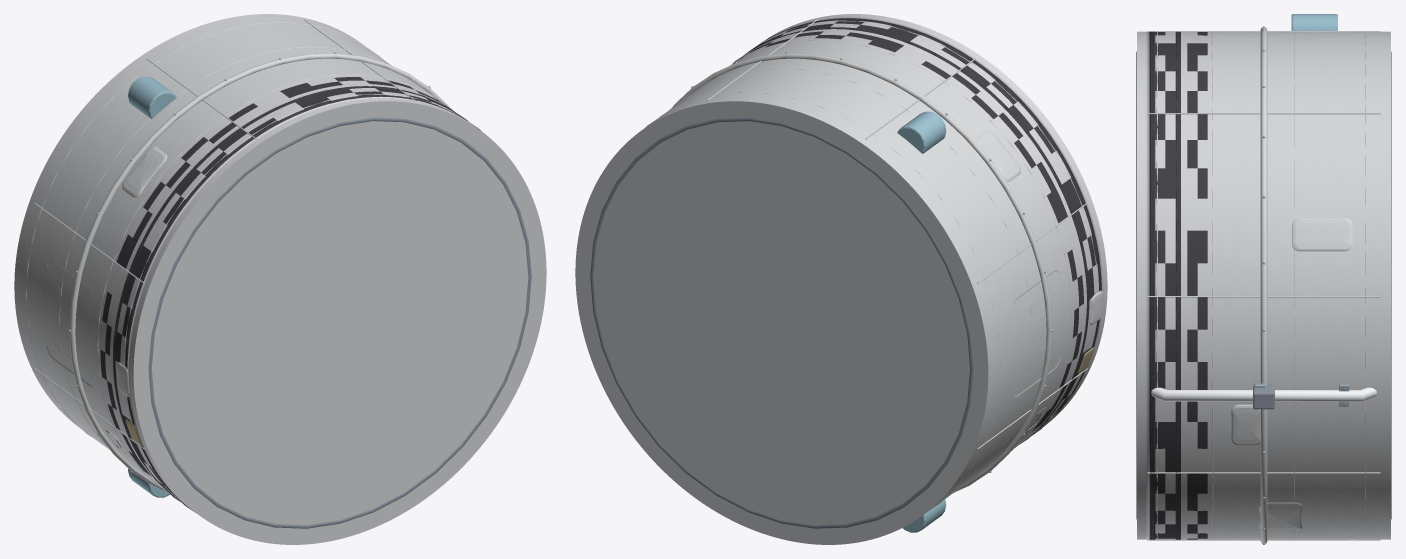
Rendered from tank-3-main.glb.
3 renders of one model, left to right at view 1: azimuth 30°, elevation 25°; view 2: azimuth 150°, elevation 25°; view 3: azimuth 270°, elevation 25°, orthographic. The views are drawn at different scales.
Parts seen in each view (by area): view 1: tank_hull, tank_end_rim_1.0, tank-band, tank_surface_panels, copv_bottle_1.0, tank_circumferential_seam_2, tank_checker_belt_1_1, tank_circumferential_seam_0, tank_checker_belt_0_1; view 2: tank_hull, tank_end_rim_-1.0, tank-band, tank_surface_panels, copv_bottle_1.0, tank_circumferential_seam_2, tank_circumferential_seam_0, tank_checker_belt_1_0, tank_circumferential_seam_1, tank_checker_belt_1_1, tank_circumferential_seam_3; view 3: tank_hull, tank_surface_panels, tank-band, cryo_feedline, tank_checker_belt_0_1, tank_checker_belt_1_1, tank_checker_belt_0_0, tank_circumferential_seam_2, copv_bottle_1.0, tank_circumferential_seam_3, feedline_valve, tank_circumferential_seam_0 (+8 smaller).
Boxes of the visible parts, x1,y1,x2,y2 form: tank_hull: (14,14,546,544); tank_end_rim_1.0: (148,117,531,528); tank-band: (69,53,448,492); tank_surface_panels: (47,146,167,453); copv_bottle_1.0: (128,76,176,118); tank_circumferential_seam_2: (97,74,452,490); tank_checker_belt_1_1: (114,87,468,501); tank_circumferential_seam_0: (25,22,379,436); tank_checker_belt_0_1: (126,96,480,511); tank_hull: (575,14,1107,544); tank_end_rim_-1.0: (590,117,973,528); tank-band: (672,53,1052,492); tank_surface_panels: (976,131,1102,431); copv_bottle_1.0: (897,111,946,153); tank_circumferential_seam_2: (730,39,1072,450); tank_circumferential_seam_0: (645,92,1000,507); tank_checker_belt_1_0: (732,28,1087,443); tank_circumferential_seam_1: (679,67,1034,482); tank_checker_belt_1_1: (755,27,1089,438); tank_circumferential_seam_3: (744,20,1098,435); tank_hull: (1137,31,1390,539); tank_surface_panels: (1231,218,1352,530); tank-band: (1260,27,1267,543); cryo_feedline: (1151,387,1376,401); tank_checker_belt_0_1: (1150,31,1151,539); tank_checker_belt_1_1: (1176,31,1177,539); tank_checker_belt_0_0: (1153,31,1154,539); tank_circumferential_seam_2: (1212,31,1213,539); copv_bottle_1.0: (1291,14,1337,30); tank_circumferential_seam_3: (1156,31,1157,539); feedline_valve: (1253,385,1274,409); tank_circumferential_seam_0: (1365,31,1365,539).
Size of the model in its own units: 6.32 by 6.15 by 3.02.
